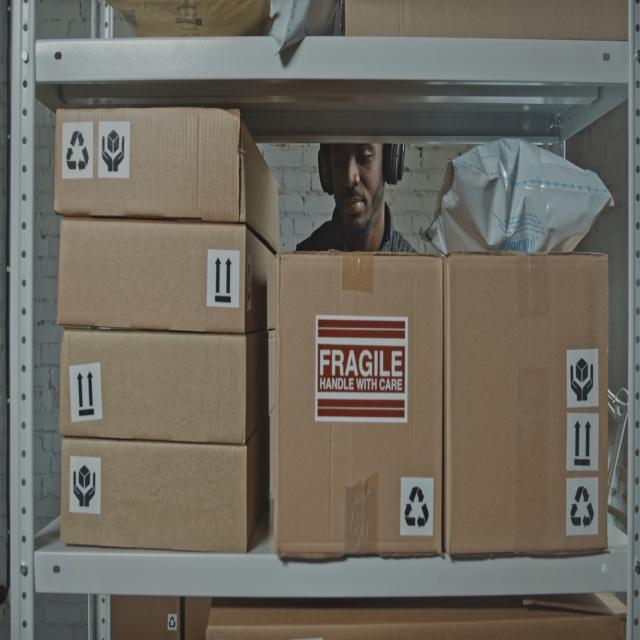counting-the-number-of-boxes: (273, 253, 442, 556), (442, 255, 608, 557), (54, 109, 279, 253), (60, 407, 275, 554), (56, 219, 277, 334), (60, 329, 276, 442)
